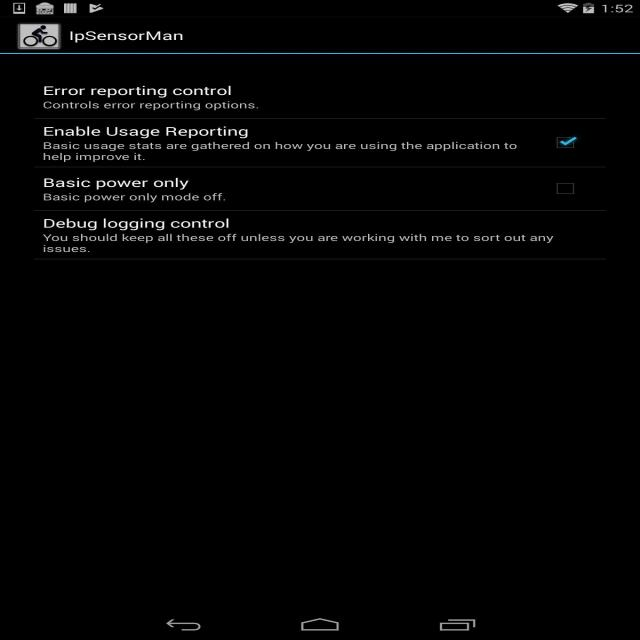button: (36, 71, 604, 118), (35, 213, 600, 259), (36, 120, 602, 165), (35, 168, 602, 209), (554, 134, 576, 150), (557, 183, 576, 197)
heading: (42, 125, 250, 139), (42, 218, 233, 232), (40, 85, 235, 98), (66, 28, 190, 45), (42, 177, 191, 189)
image: (19, 24, 58, 49)
text: (42, 140, 522, 163), (41, 233, 556, 254), (42, 100, 258, 111), (43, 192, 229, 204)
